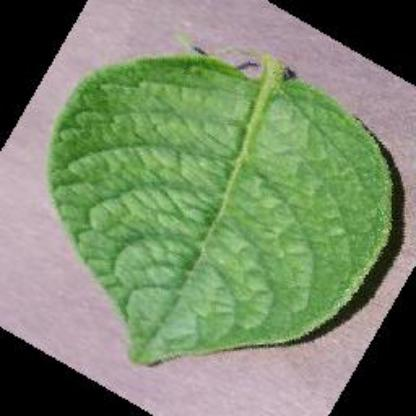Healthy-plant: (46, 32, 406, 366)
